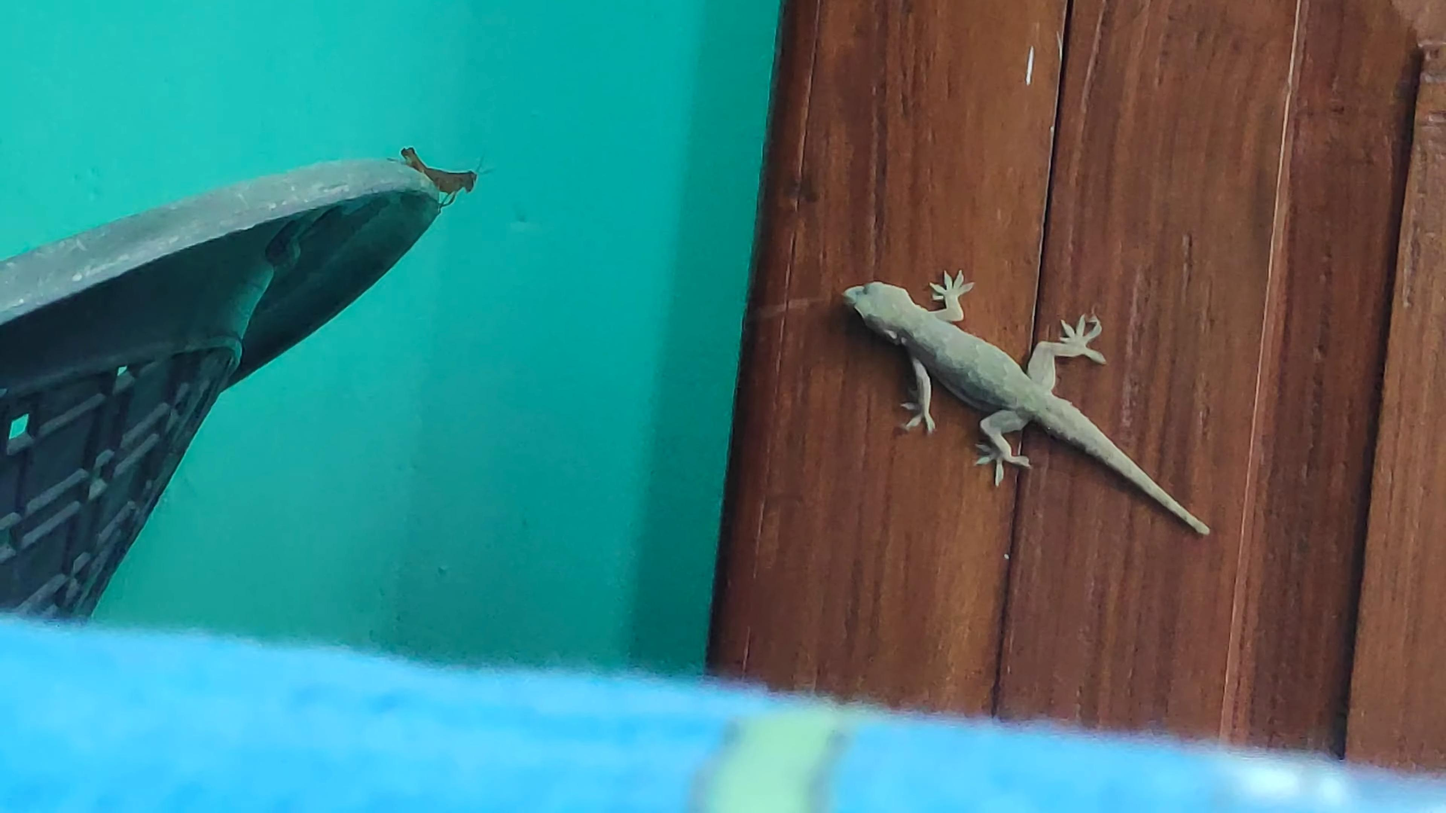lizard: (831, 268, 1209, 538)
